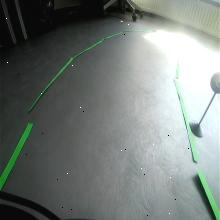left: (209, 69, 220, 95)
